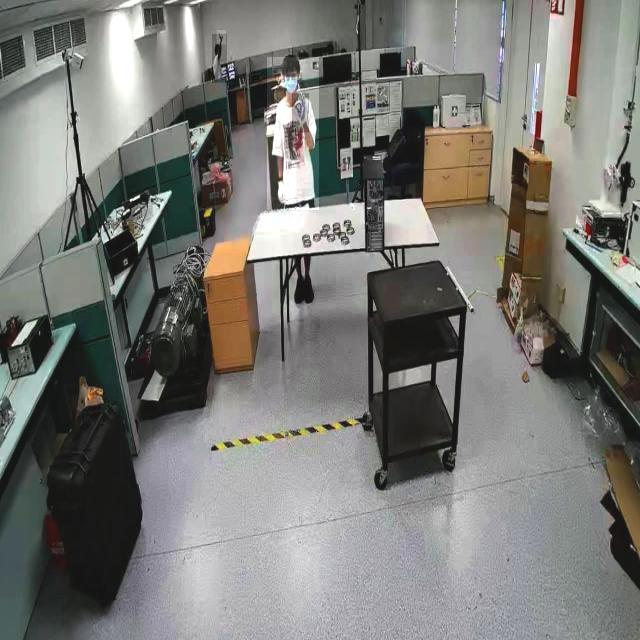face_mask: (282, 68, 300, 100)
hand_glove: (292, 94, 309, 132)
hand_noglove: (216, 30, 226, 44)
head_nohelmet: (281, 54, 301, 68), (215, 44, 221, 50)
person: (267, 57, 319, 211), (211, 34, 227, 84)
shoes: (290, 271, 308, 308), (302, 271, 316, 308)
